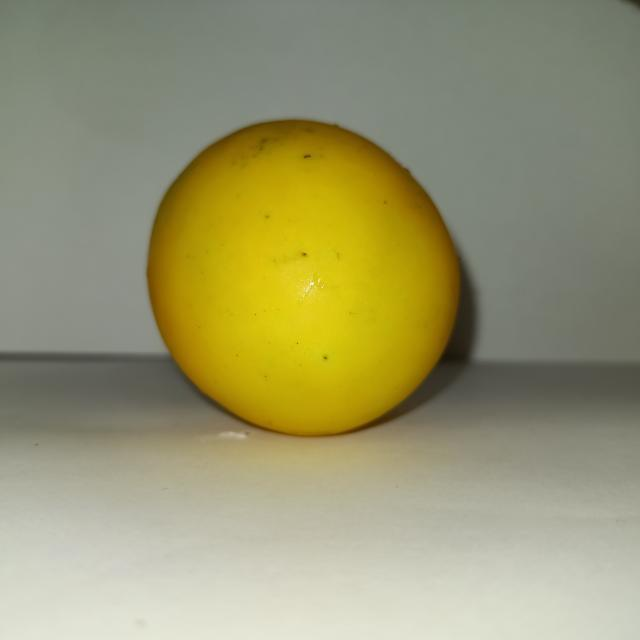Red: (145, 116, 463, 437)
